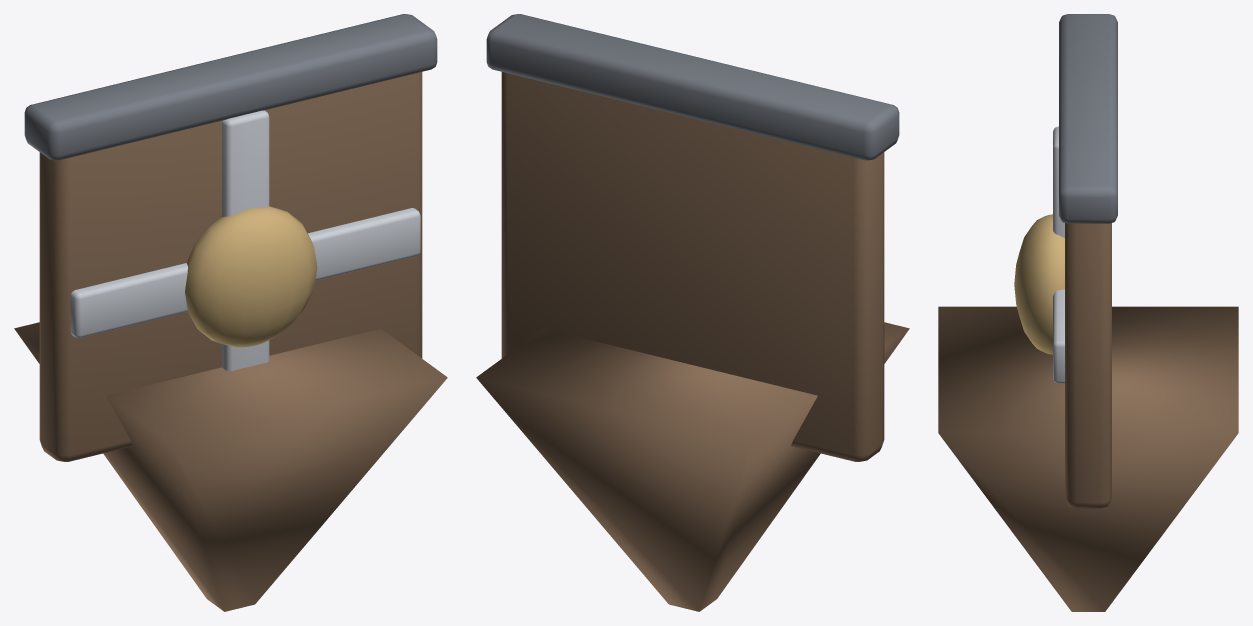
The model's file is kite_shield.glb.
3 views of the same model, side by side, from view 1: azimuth 30°, elevation 25°; view 2: azimuth 150°, elevation 25°; view 3: azimuth 270°, elevation 25° (orthographic). The views are drawn at different scales.
Visible parts, largest first — view 1: ShieldUpper, ShieldLower, RimTop, CenterBoss, CrossStrapH, CrossStrapV; view 2: ShieldUpper, ShieldLower, RimTop; view 3: ShieldLower, ShieldUpper, RimTop, CenterBoss, CrossStrapH, CrossStrapV.
Part boxes in pixels (box(x1,y1,x2,y2)): ShieldUpper: box(39, 72, 422, 461); ShieldLower: box(14, 322, 447, 611); RimTop: box(24, 14, 437, 160); CenterBoss: box(185, 206, 317, 347); CrossStrapH: box(70, 208, 420, 337); CrossStrapV: box(222, 110, 269, 370); ShieldUpper: box(501, 72, 884, 461); ShieldLower: box(476, 322, 909, 611); RimTop: box(486, 14, 899, 160); ShieldLower: box(938, 306, 1238, 611); ShieldUpper: box(1065, 223, 1111, 508); RimTop: box(1059, 14, 1117, 223); CenterBoss: box(1014, 214, 1064, 354); CrossStrapH: box(1053, 289, 1064, 383); CrossStrapV: box(1053, 126, 1064, 237).
Bounding box in the file's own units: 0.72 × 0.945 × 0.5091.
